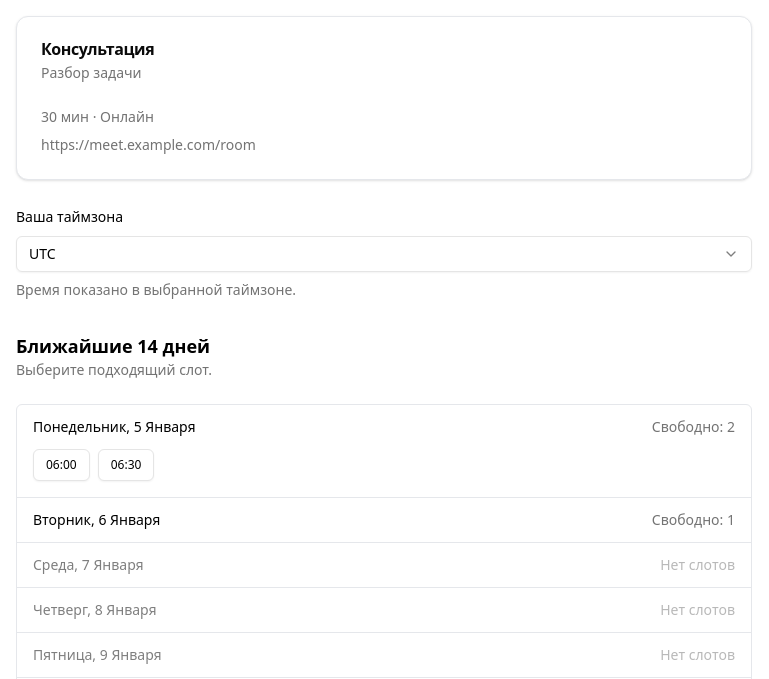
Scenario: PublicBookingPage › reveals slots for the selected date
Click the button "вторник, 6 января Свободно: 1".
click(97, 520)  # box left=17, top=498, right=751, bottom=542
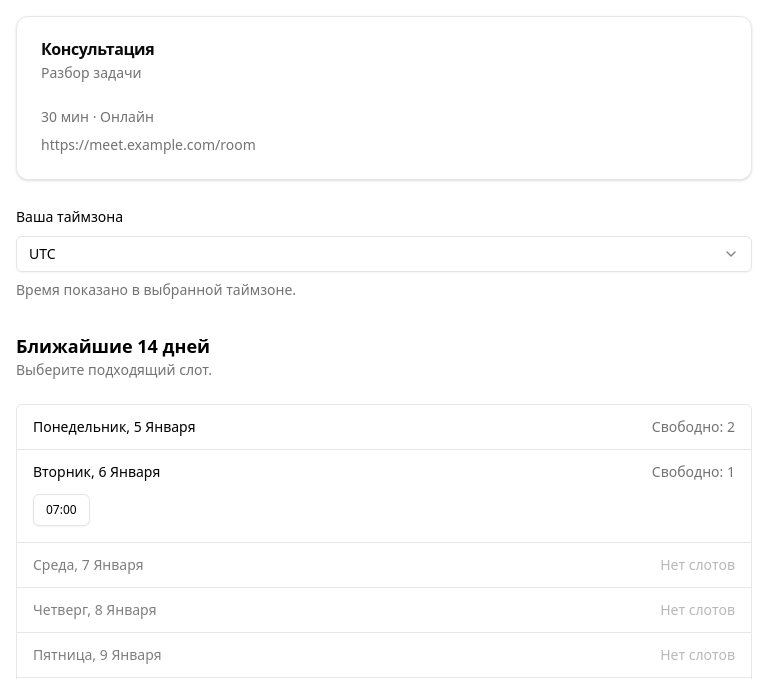
Expected: the button "07:00" is shown, left=33, top=494, right=90, bottom=526
Expected: the button "06:00" is gone
